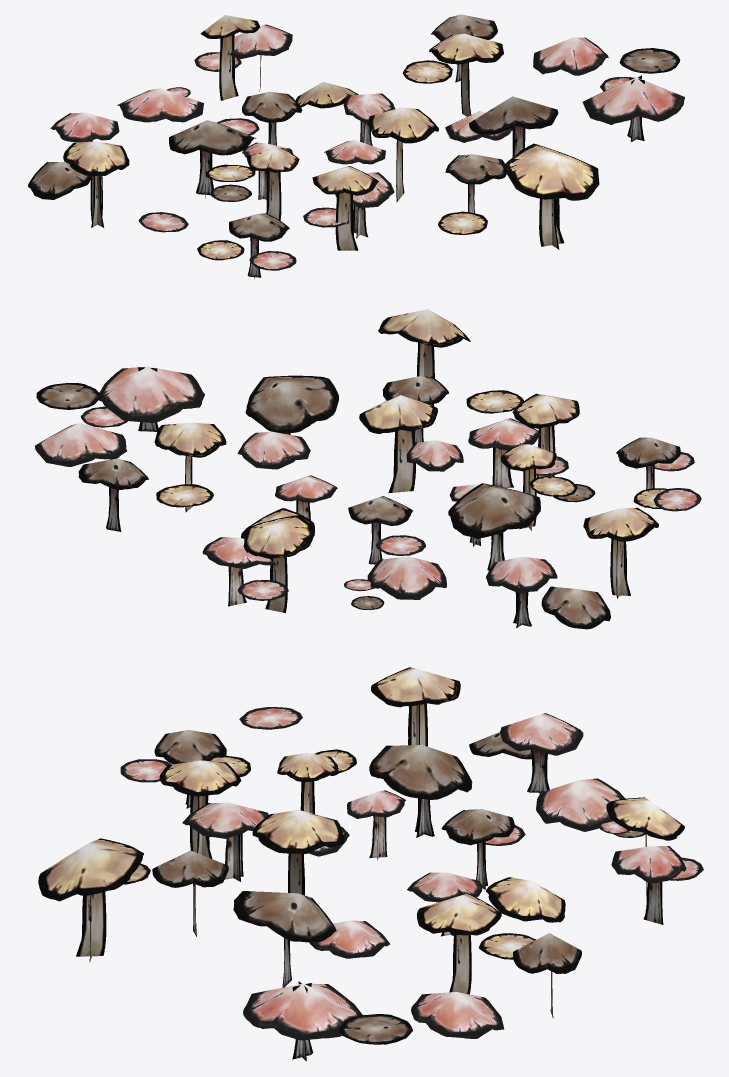
The model's file is FOL_MushroomB.FBX.
3 views of the same model, one above another, from view 1: azimuth 30°, elevation 25°; view 2: azimuth 150°, elevation 25°; view 3: azimuth 270°, elevation 25° (orthographic). The views are drawn at different scales.
Visible parts, largest first — view 1: FOL_MushroomB; view 2: FOL_MushroomB; view 3: FOL_MushroomB.
Boxes of the visible parts, x1=… form: FOL_MushroomB: x1=28, y1=14, x2=684, y2=278; FOL_MushroomB: x1=35, y1=309, x2=701, y2=629; FOL_MushroomB: x1=38, y1=667, x2=703, y2=1061.
Size of the model in its own units: 415 by 58.61 by 336.
